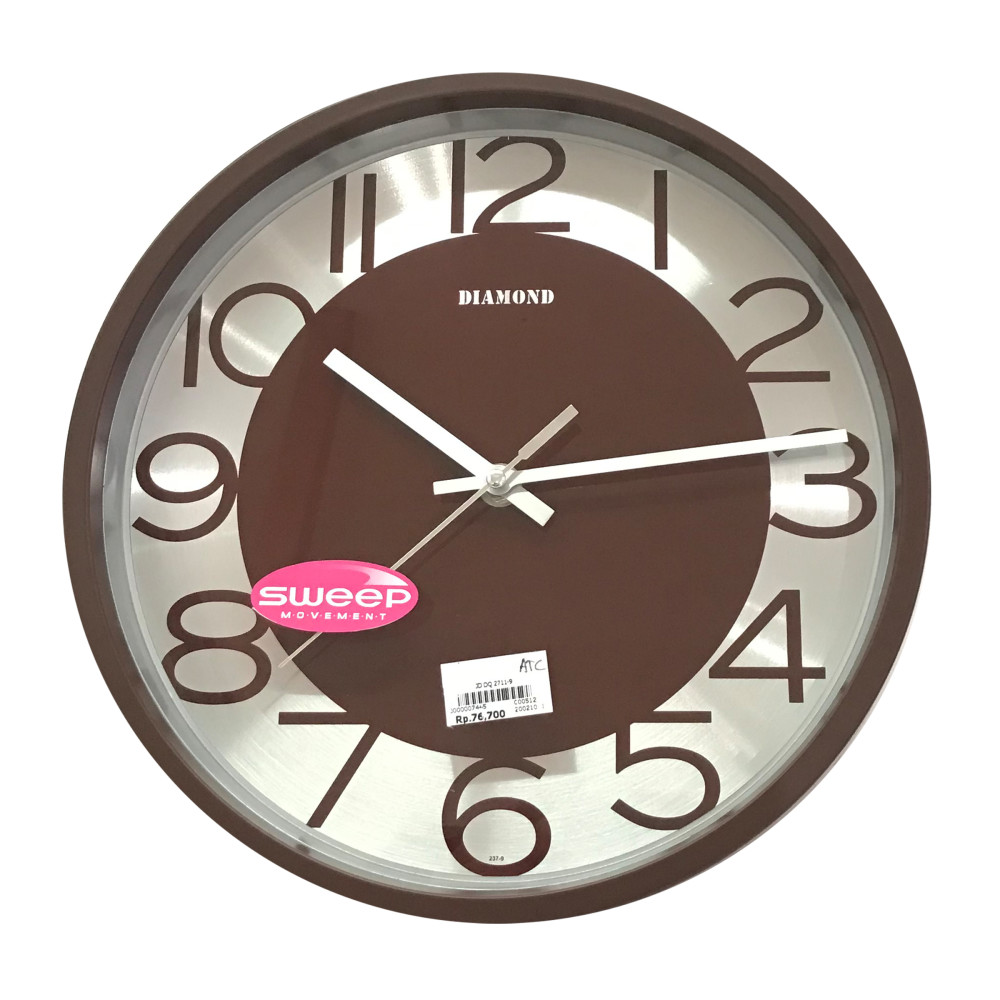jam dinding: (73, 71, 944, 946)
